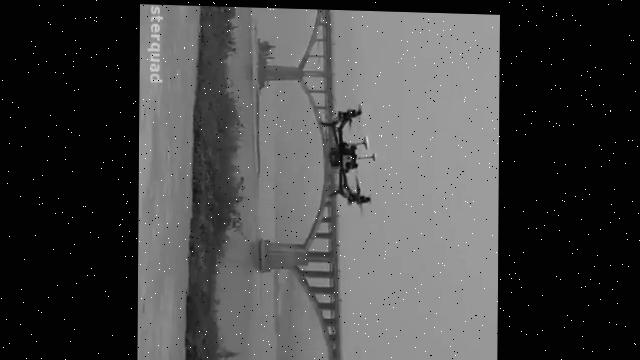drone: (319, 92, 382, 216)
